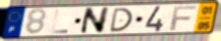4: (144, 5, 165, 33)
8: (24, 8, 50, 37)
D: (108, 7, 134, 33)
F: (169, 5, 198, 32)
L: (50, 9, 70, 35)
N: (79, 6, 111, 35)
